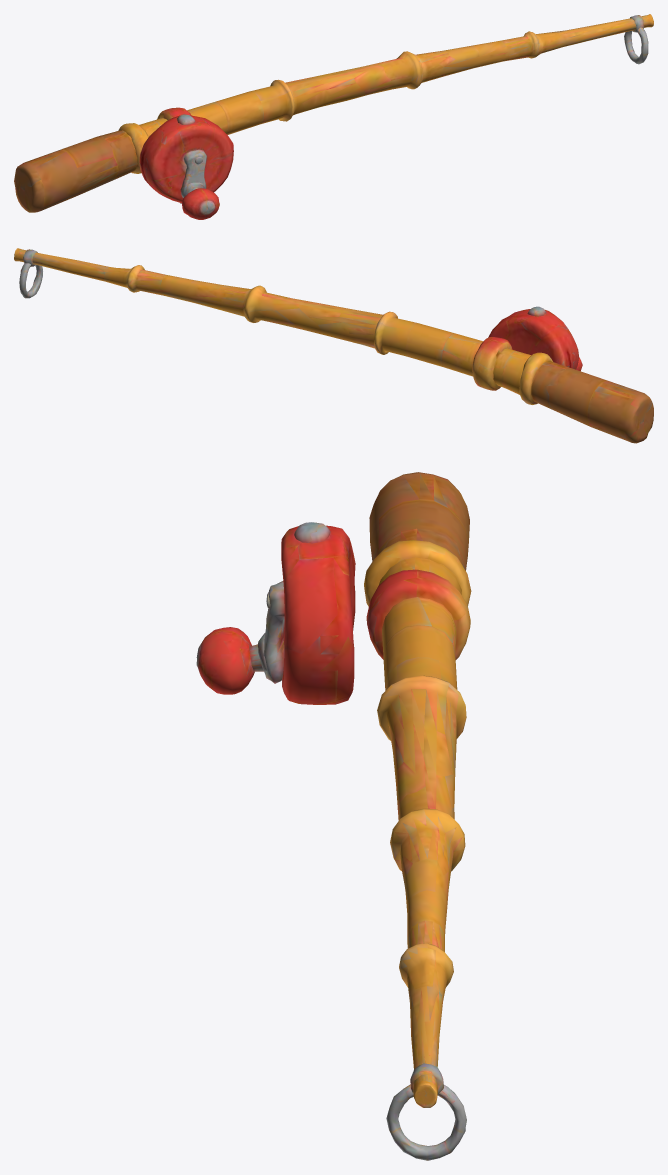
File: rod.glb
3 renders of one model, top to bottom at view 1: azimuth 30°, elevation 25°; view 2: azimuth 150°, elevation 25°; view 3: azimuth 270°, elevation 25°, orthographic. The views are drawn at different scales.
Bounding box in the file's own units: 1 × 0.1322 × 0.1902.
Materials: 1 (1 with a texture image).
